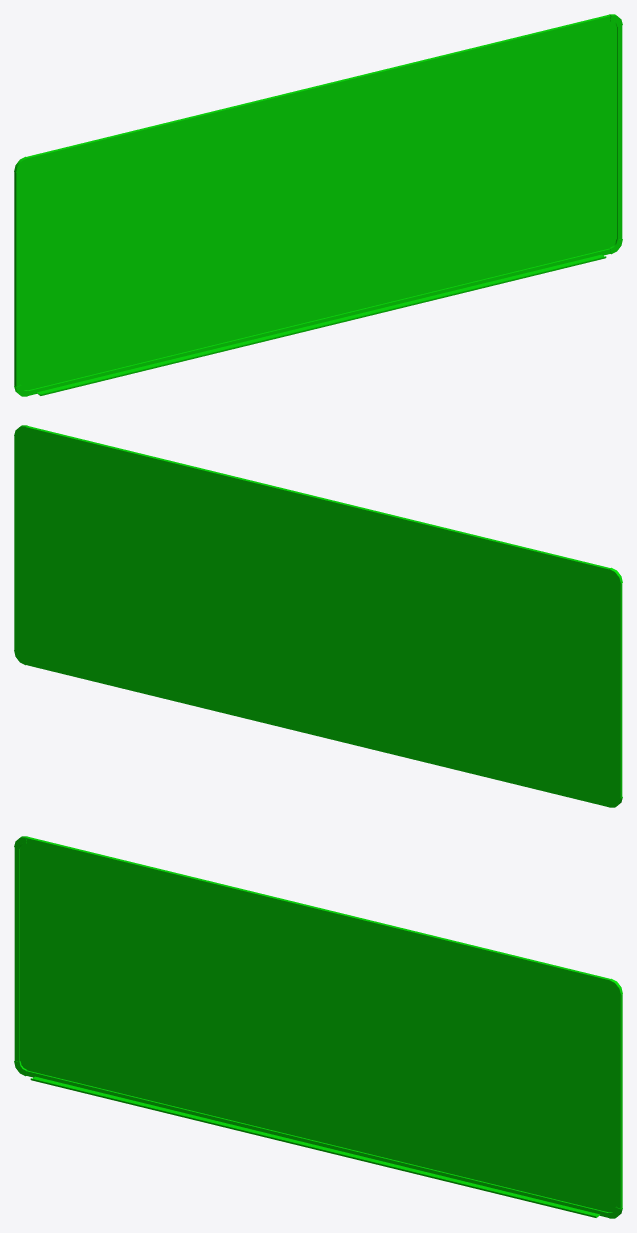
Rendered from classroomWhiteboard.fbx.
3 views of the same model, one above another, from view 1: azimuth 30°, elevation 25°; view 2: azimuth 150°, elevation 25°; view 3: azimuth 330°, elevation 25° (orthographic).
Visible parts, largest first — view 1: classroomBoard; view 2: classroomBoard; view 3: classroomBoard.
Boxes of the visible parts, <box> form: classroomBoard: <box>14,14,622,396</box>; classroomBoard: <box>14,425,622,807</box>; classroomBoard: <box>14,836,622,1218</box>.
Size of the model in its own units: 401 by 151 by 7.
